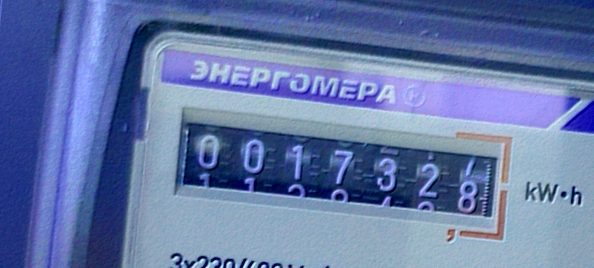0: (195, 131, 224, 173), (242, 136, 268, 176)
1: (287, 142, 308, 183)
2: (417, 161, 442, 200)
3: (376, 156, 401, 194)
7: (331, 147, 356, 188)
8: (457, 177, 479, 214)
screen: (162, 103, 524, 250)
